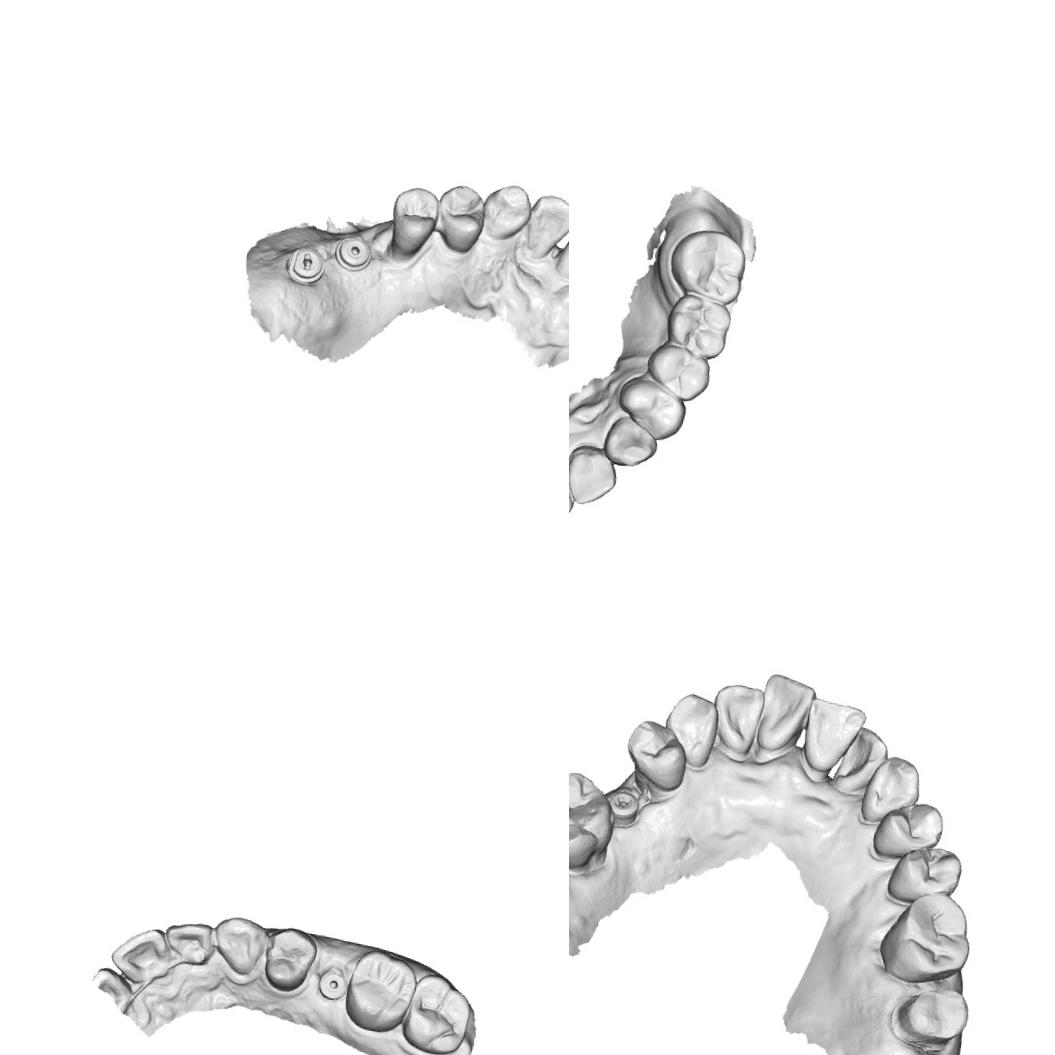canine: (656, 688, 720, 773), (857, 750, 924, 830), (209, 912, 270, 979), (480, 178, 536, 247), (599, 410, 660, 472)
crown: (886, 981, 974, 1055)
implant: (326, 220, 384, 280), (316, 968, 348, 1003)
implant_minus: (282, 240, 328, 290)
implant_plus: (603, 788, 643, 830)
incisor: (795, 692, 870, 779), (752, 670, 819, 756), (708, 680, 766, 758), (108, 922, 176, 987), (830, 722, 892, 792), (569, 439, 622, 508), (521, 191, 569, 261), (162, 918, 218, 968), (552, 208, 569, 289)
molar: (875, 886, 977, 992), (664, 224, 752, 309), (342, 946, 422, 1038), (398, 970, 475, 1055), (662, 290, 734, 363), (569, 769, 620, 870)
premolar: (881, 838, 967, 910), (610, 371, 692, 446), (865, 793, 950, 864), (622, 716, 690, 795), (642, 336, 715, 404), (432, 181, 490, 258), (385, 182, 443, 258), (260, 926, 320, 996)
